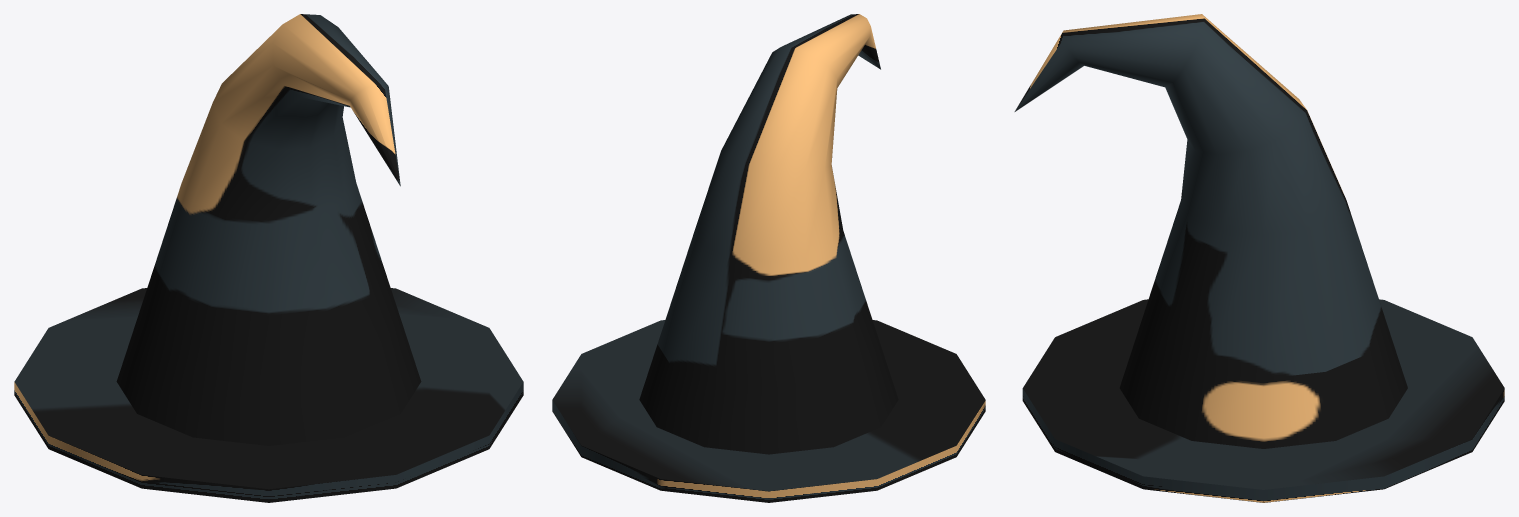
Rendered from witch hat.FBX.
The picture shows the model from 3 angles, left to right: view 1: azimuth 30°, elevation 25°; view 2: azimuth 150°, elevation 25°; view 3: azimuth 270°, elevation 25°; orthographic projection. The views are drawn at different scales.
Parts seen in each view (by area): view 1: Cylinder163; view 2: Cylinder163; view 3: Cylinder163.
Boxes of the visible parts, x1=… form: Cylinder163: x1=14, y1=14, x2=523, y2=502; Cylinder163: x1=552, y1=14, x2=985, y2=502; Cylinder163: x1=1014, y1=14, x2=1504, y2=502.
Bounding box in the file's own units: 1.3 × 1.14 × 1.33.
